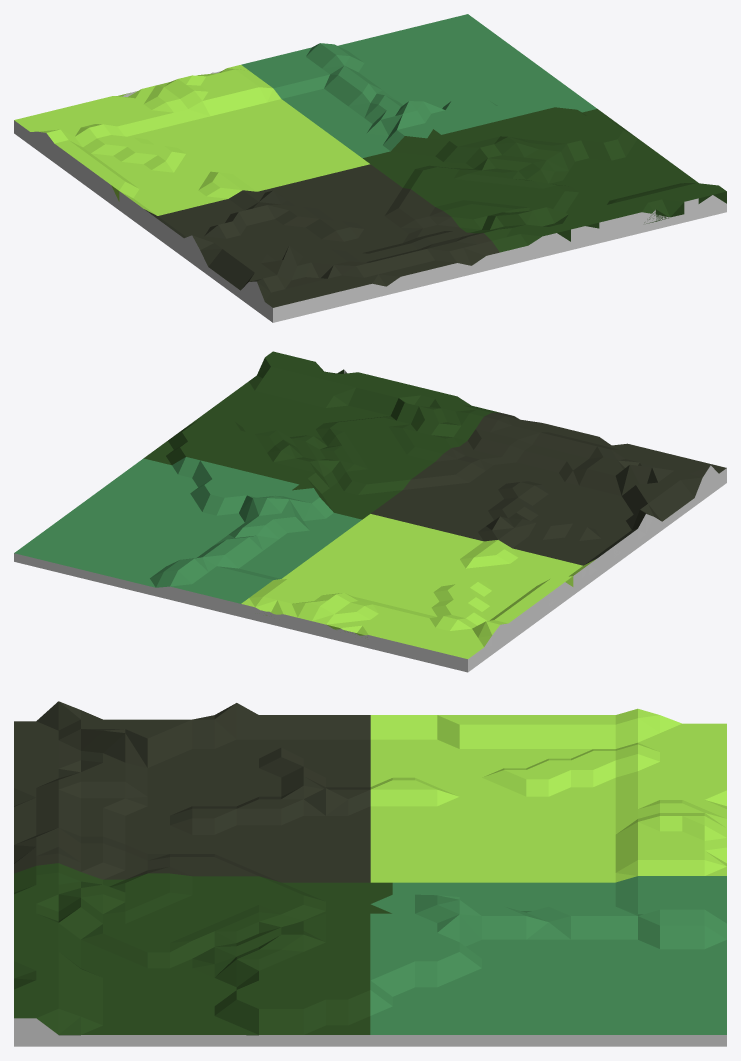
Rendered from stage.fbx.
3 views of the same model, one above another, from view 1: azimuth 30°, elevation 25°; view 2: azimuth 150°, elevation 25°; view 3: azimuth 270°, elevation 25° (orthographic). The views are drawn at different scales.
Parts seen in each view (by area): view 1: Cube; view 2: Cube; view 3: Cube.
Part boxes in pixels (left/top/right/bottom): Cube: left=14, top=14, right=726, bottom=322; Cube: left=14, top=351, right=726, bottom=672; Cube: left=14, top=701, right=726, bottom=1046.
Size of the model in its own units: 2608 by 187 by 2577.
